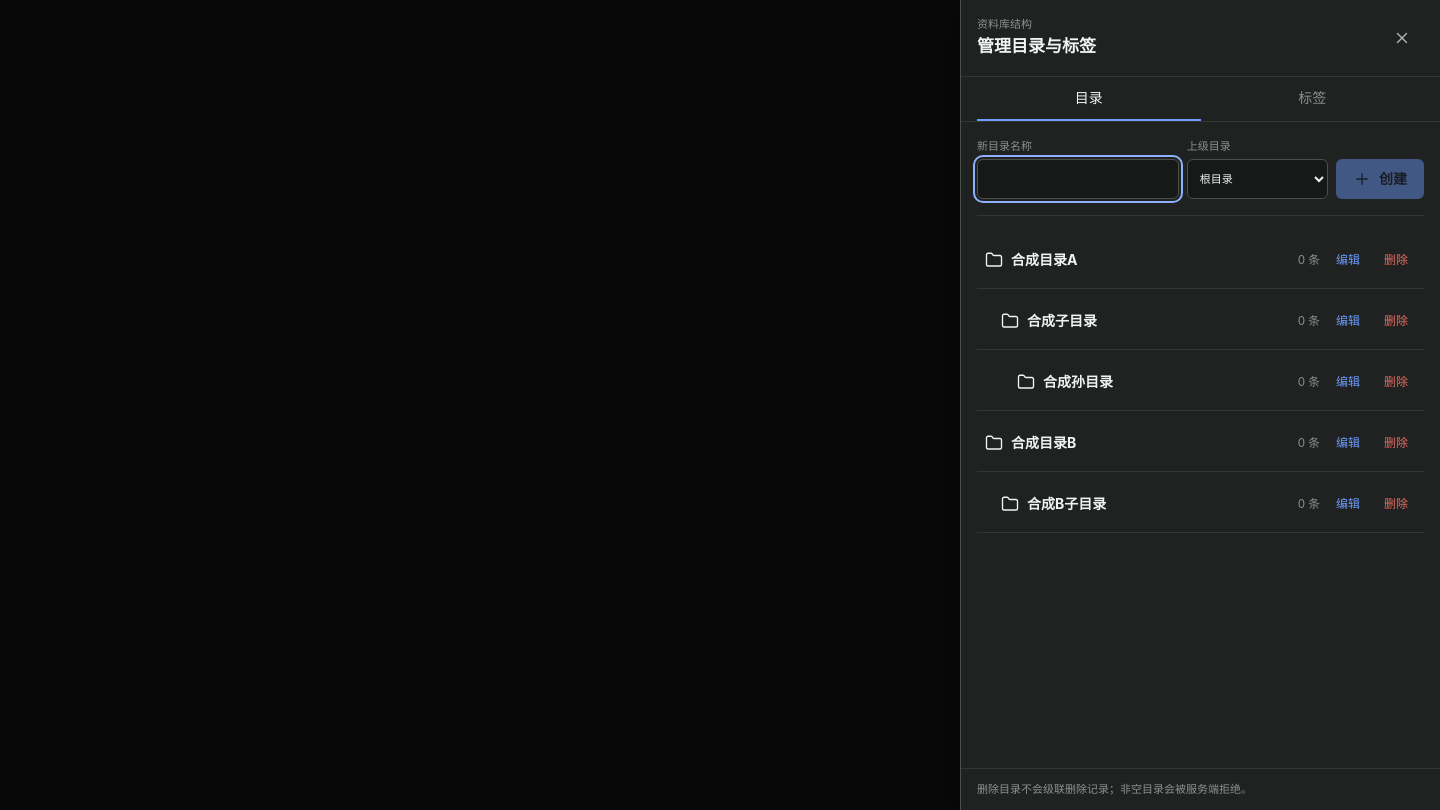
it: LibraryManageDrawer 编辑上级候选排除自身子树（DT-R288） › 编辑嵌套 child：原父 A 保留可选、child/grand 排除；取消后编辑 B：排除 B/B-child 而 A 子树整体恢复
expect the dialog with class "manager" is shown: met, box [960,0,1439,809]
expect the list item "合成子目录 0 条 编辑 删除" is shown: met, box [977,293,1424,350]
Click the button "编辑" in the row of "合成子目录" at coordinates (1348, 321), box [1328,301,1368,341]
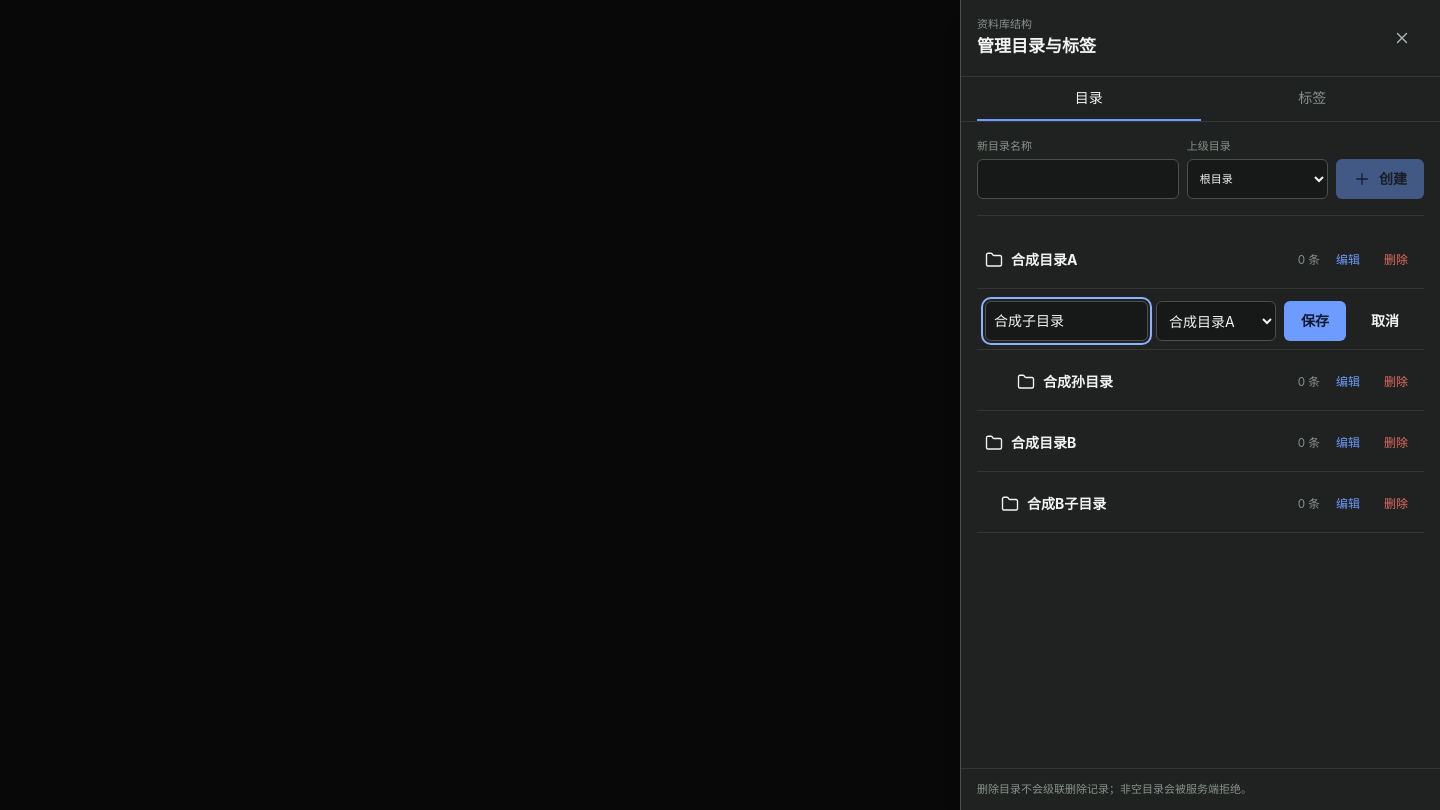
expect the field named "目录名称" holds "合成子目录": met, box [985,301,1148,341]
expect the dropdown named "上级目录" shows "合成目录A": met, box [1156,301,1276,341]
expect the form with class "edit-form" is shown: met, box [985,301,1416,341]
取消退出编辑态，焦点回到 child 行的「编辑」按钮。
Click the button "取消" at coordinates (1385, 321), box [1354,301,1416,341]
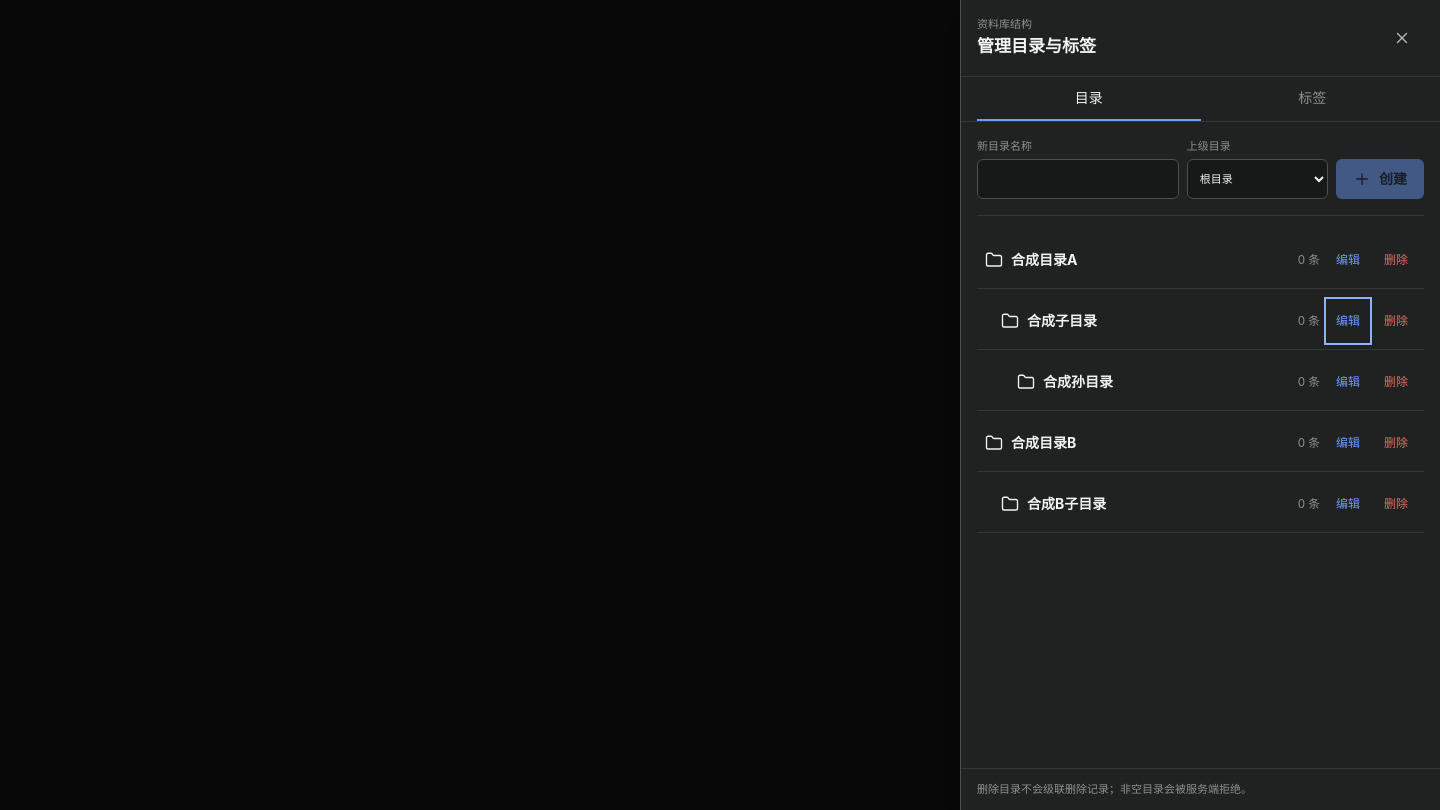
expect the list item "合成子目录 0 条 编辑 删除" is shown: met, box [977,293,1424,350]
expect the form with class "edit-form" is gone: met
expect the button "编辑" in the row of "合成子目录" is shown: met, box [1328,301,1368,341]
切换编辑对象：候选立即按 B 重算——排除 B/B-child，A 整棵子树（含 child/grand）恢复可选。
Click the button "编辑" in the row of "合成目录B" at coordinates (1348, 443), box [1328,423,1368,463]
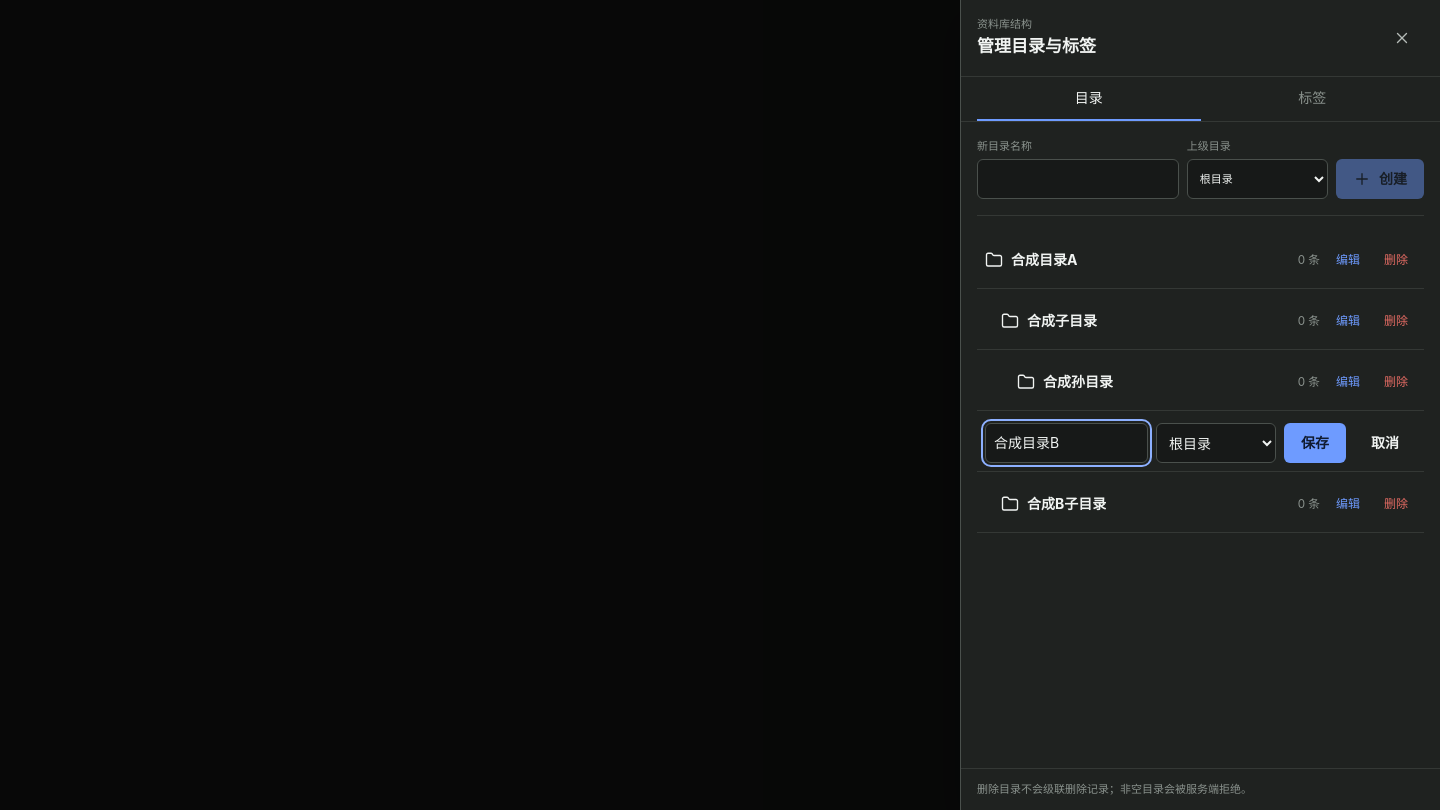
expect the field named "目录名称" holds "合成目录B": met, box [985,423,1148,463]
expect the dropdown named "上级目录" shows "根目录": met, box [1156,423,1276,463]
expect the form with class "edit-form" is shown: met, box [985,423,1416,463]
